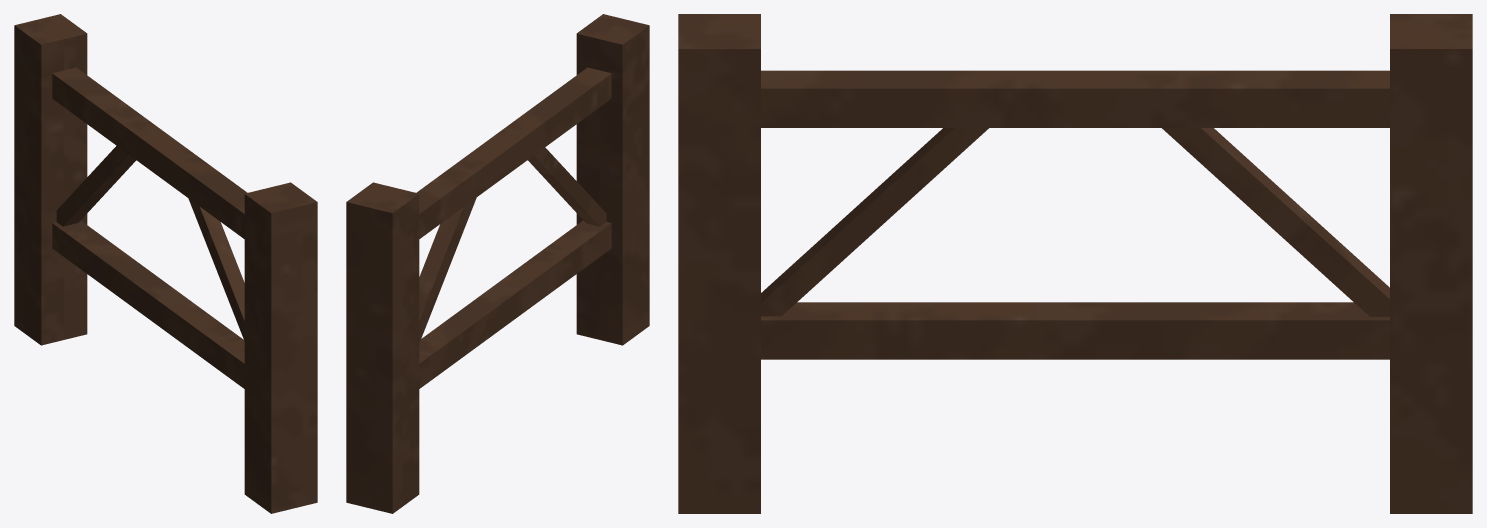
Rendered from Fence2.fbx.
The picture shows the model from 3 angles, left to right: view 1: azimuth 30°, elevation 25°; view 2: azimuth 150°, elevation 25°; view 3: azimuth 270°, elevation 25°; orthographic projection. The views are drawn at different scales.
Parts seen in each view (by area): view 1: Fence2; view 2: Fence2; view 3: Fence2.
Part boxes in pixels (x1=…): Fence2: x1=14, y1=14, x2=317, y2=513; Fence2: x1=346, y1=14, x2=649, y2=513; Fence2: x1=678, y1=14, x2=1472, y2=513.
Bounding box in the file's own units: 14.51 × 90.06 × 139.
